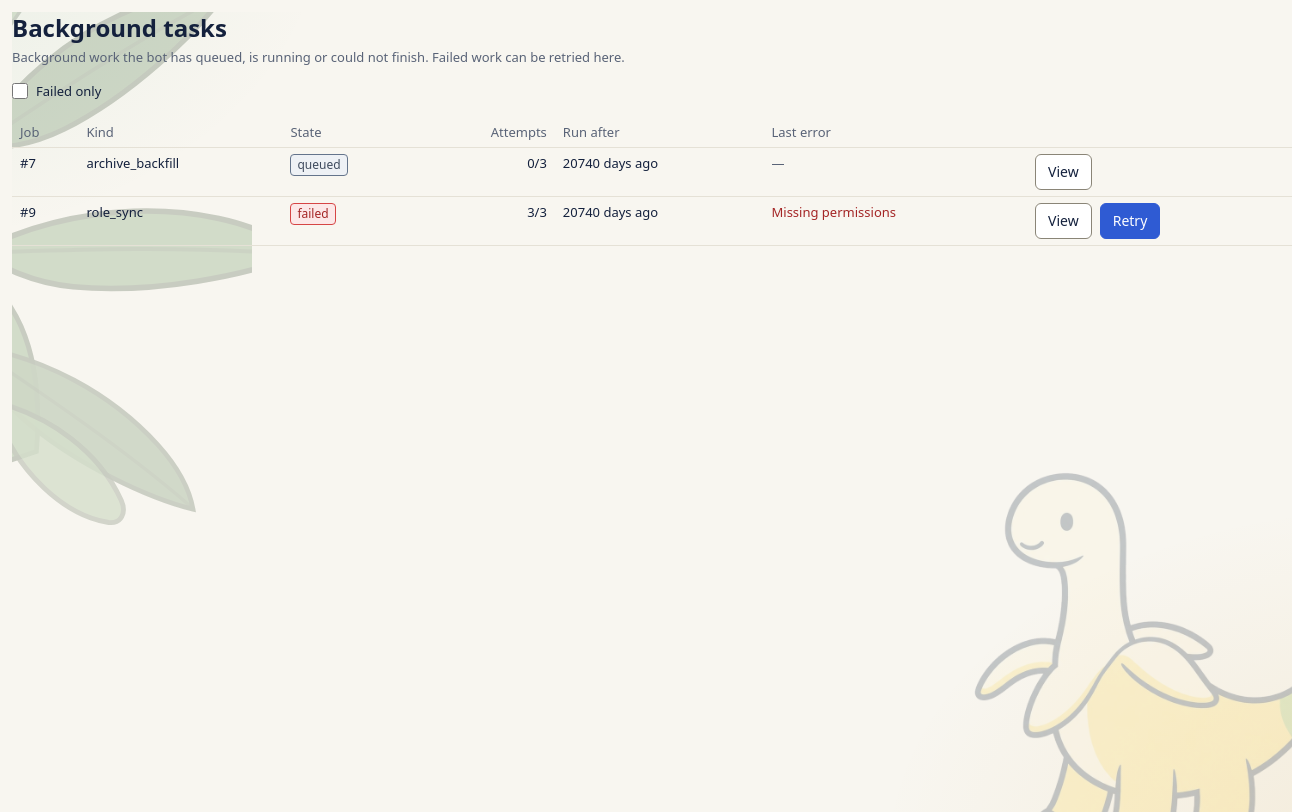
Test case: JobsPage › view fetches the job detail into a card
The width and height of the screenshot is (1292, 812).
Expected: the text "#9" is shown, [12,197,78,246]
Click the button "View" in the row of "#9": [1063, 221] box [1035,203,1092,239]
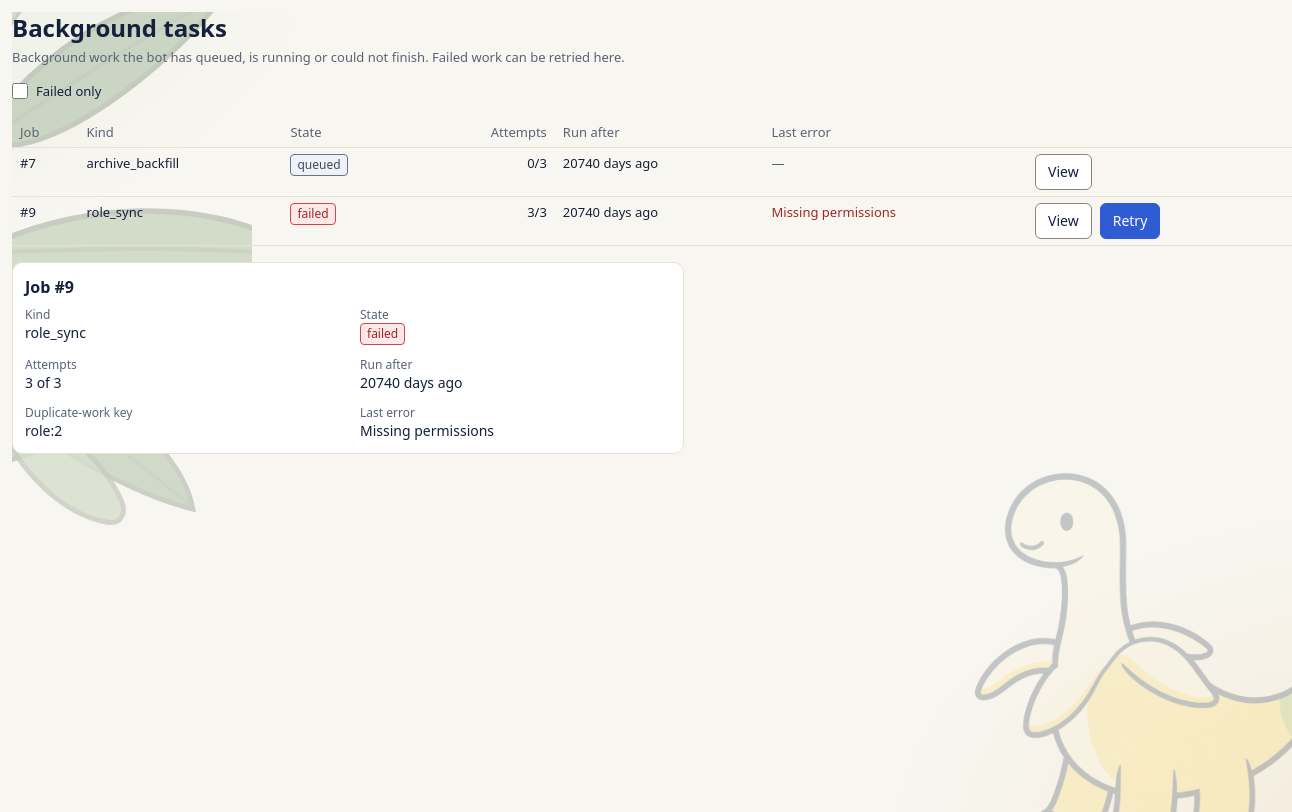
Expected: the text "Duplicate-work key" is shown, [25,404,132,421]
Expected: the text "role:2" is shown, [25,421,62,440]
